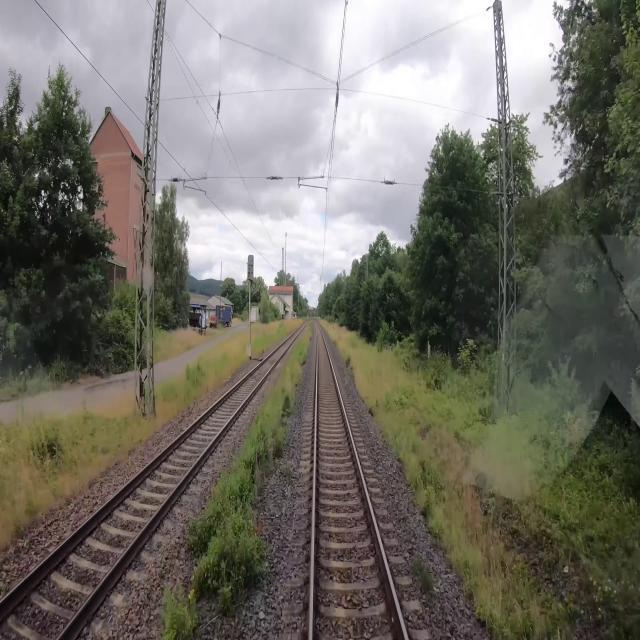Plant: (160, 319, 314, 639), (280, 457, 298, 485)
